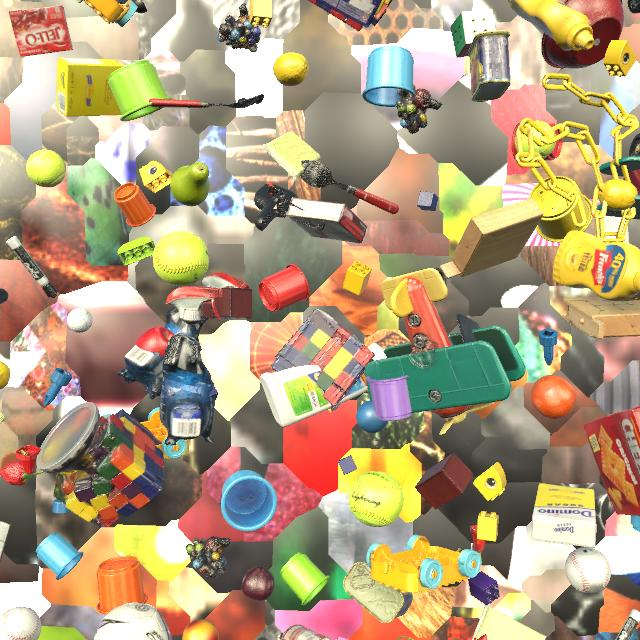ycb_003_cracker_box: (583, 406, 640, 516)
ycb_004_sugar_box: (57, 58, 156, 117), (531, 483, 596, 548)
ycb_005_tomato_soup_can: (281, 624, 332, 640)
ycb_006_mustard_bottle: (553, 230, 640, 302), (508, 0, 595, 51)
ycb_008_pudding_box: (286, 197, 367, 243), (0, 521, 11, 562)
ycb_009_gelatin_box: (9, 5, 73, 57)
ycb_010_potted_meat_can: (343, 562, 413, 623), (467, 30, 511, 102)
ycb_012_strawberry: (0, 461, 32, 486)
ycb_013_apple: (134, 327, 175, 357)
ycb_014_lemon: (598, 179, 638, 211), (273, 53, 309, 86), (0, 361, 10, 389)
ycb_015_peach: (182, 619, 219, 640)
ycb_016_pear: (170, 162, 210, 206)
ycb_017_orange: (530, 375, 576, 419)
ycb_018_plum: (242, 566, 275, 601)
